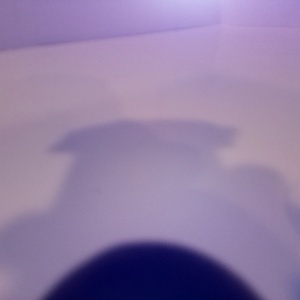dead_ball: (36, 241, 262, 300)
